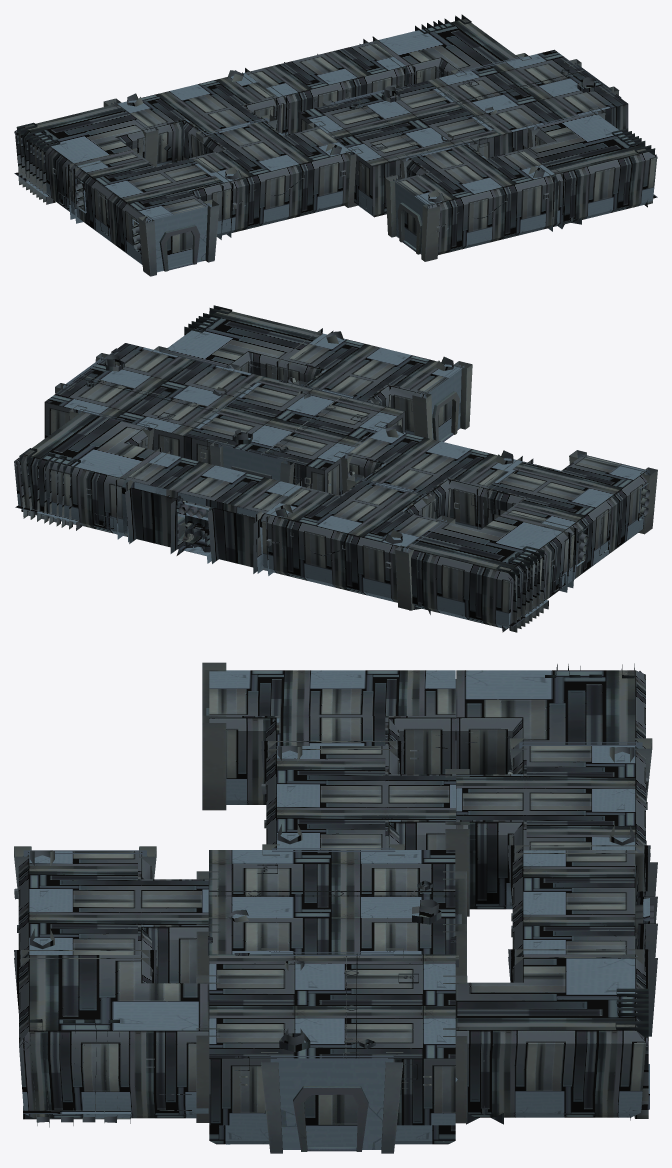
File: Combined_Mesh_root_scene__1_e4e4d5ea__zombies2_diffuse_03_64bb9bc2_c1f257.obj
The picture shows the model from 3 angles, top to bottom: view 1: azimuth 30°, elevation 25°; view 2: azimuth 150°, elevation 25°; view 3: azimuth 270°, elevation 25°; orthographic projection. The views are drawn at different scales.
Size of the model in its own units: 77.02 by 9.64 by 52.3.
Materials: 159 (159 with a texture image).
